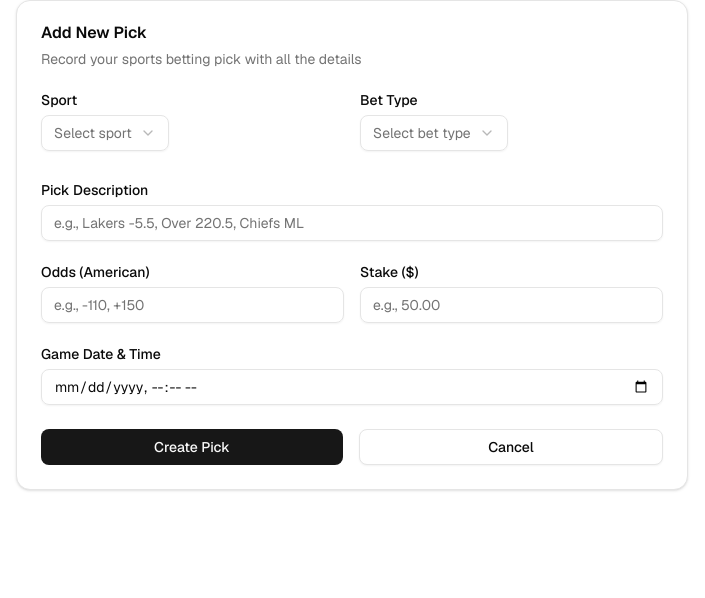
Test case: AddPickForm › calculates potential winnings correctly for positive odds
Step 1. Type "150" into the number field labelled "Odds (American)" → (192, 305), box [41,287,344,323]
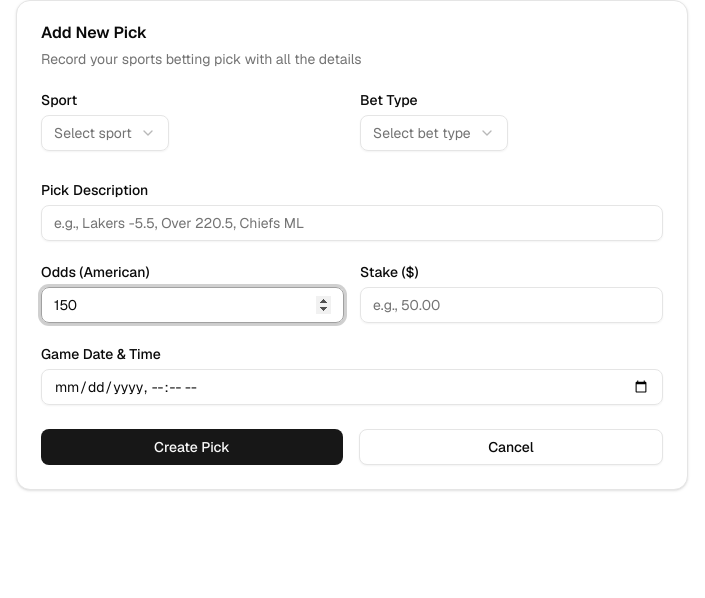
Step 2. Type "100" into the number field labelled "Stake ($)" → (512, 305), box [360,287,663,323]
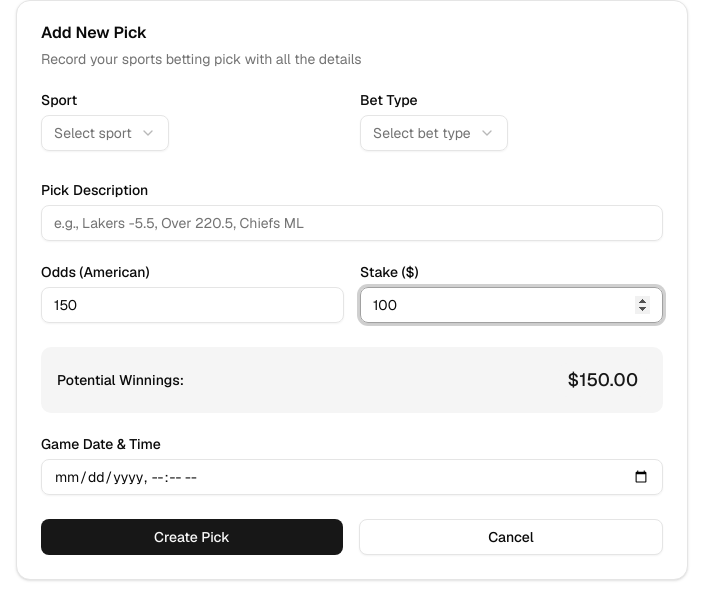
Expected: the text "$150.00" is shown, [559,363,647,397]
